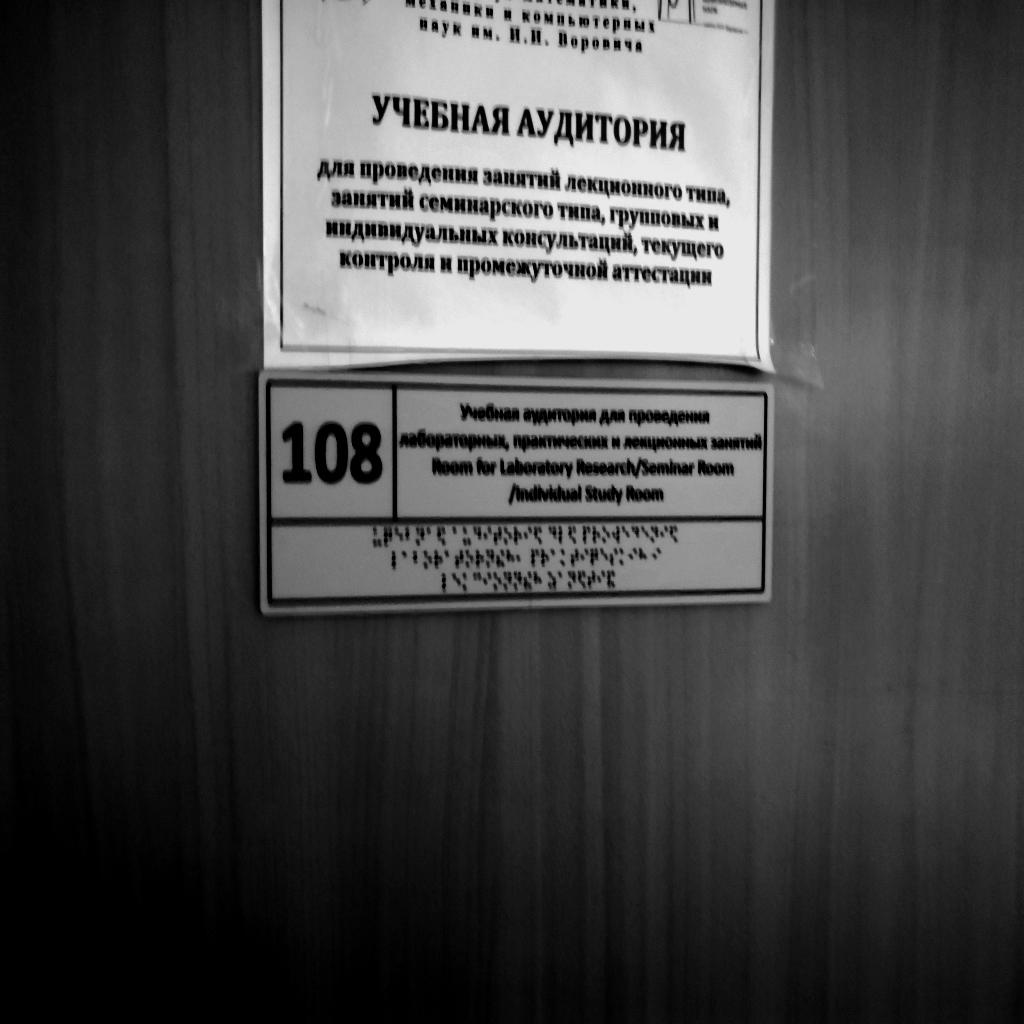_n: (415, 526, 425, 545), (503, 570, 512, 591), (513, 571, 522, 591), (567, 569, 576, 589), (650, 525, 659, 543), (486, 548, 494, 568)
_y: (373, 527, 383, 547), (463, 526, 471, 545)
a: (444, 549, 454, 569), (426, 527, 436, 546), (402, 549, 411, 569), (550, 547, 559, 567), (558, 570, 567, 589), (453, 527, 462, 545)
b: (412, 550, 422, 570), (405, 526, 414, 546)
c: (473, 571, 482, 591)
ch: (384, 527, 393, 546), (590, 547, 599, 565)
d: (548, 525, 557, 544), (473, 525, 481, 545), (632, 525, 640, 543)
e: (394, 526, 404, 546), (600, 546, 609, 566), (453, 572, 462, 591), (622, 526, 630, 545), (641, 525, 649, 543)
i: (483, 571, 492, 592), (580, 547, 589, 567), (653, 546, 662, 566), (597, 569, 606, 589), (483, 526, 492, 545), (629, 547, 638, 566), (524, 526, 532, 544), (660, 525, 668, 543)
iKratkoe: (607, 569, 615, 588)
ii: (496, 548, 505, 568), (523, 570, 532, 590)
k: (560, 548, 570, 567), (618, 547, 628, 566), (462, 572, 471, 591)
l: (441, 572, 451, 592), (391, 549, 400, 569), (558, 525, 567, 544)
o: (423, 549, 432, 569), (493, 571, 502, 591), (504, 526, 513, 545), (465, 549, 474, 568), (602, 525, 610, 543)
p: (530, 548, 540, 567), (582, 524, 591, 543)
r: (434, 549, 443, 569), (513, 526, 522, 545), (475, 549, 484, 568), (541, 548, 550, 567), (593, 526, 601, 544)
s: (609, 547, 618, 566)
t: (455, 549, 464, 569), (494, 525, 502, 544), (588, 570, 596, 589), (571, 548, 579, 566)
v: (612, 525, 621, 544)
x: (533, 570, 543, 590), (506, 549, 515, 569), (639, 547, 648, 567)
ya: (567, 525, 577, 545), (437, 526, 446, 547), (534, 525, 543, 545), (578, 569, 587, 589), (669, 525, 678, 544)
z: (547, 570, 557, 590)
zapyataya: (516, 550, 525, 568)
